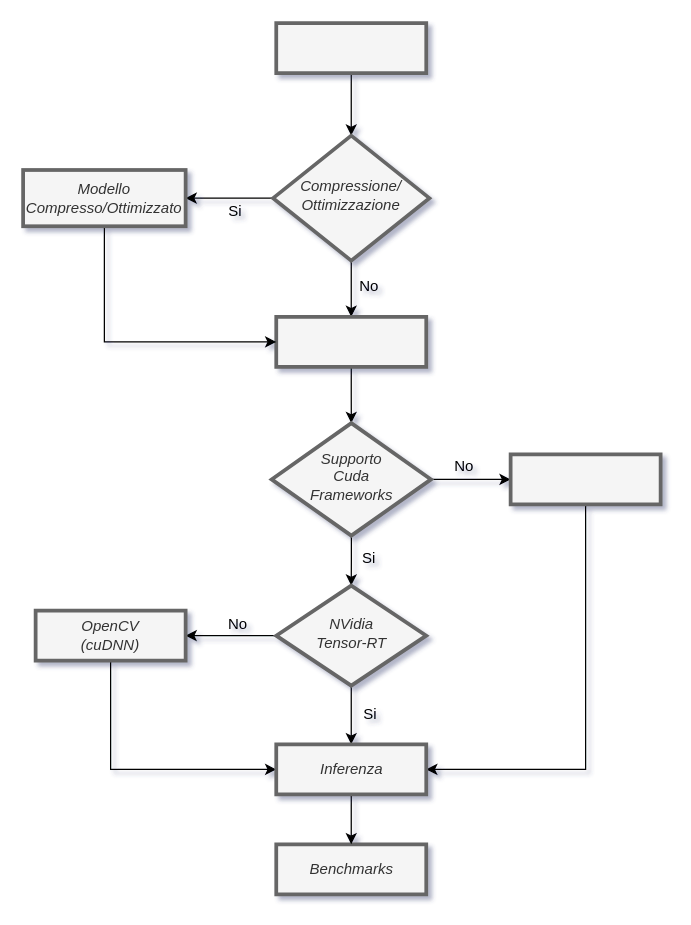
Some shapes in this 691 by 925 pixel diagram are drawn without their labels. Each missing label, with the centre of its shape:
"Conversione .pth a .ONNX" belongs at point 351,341.
"Modello Iniziale" belongs at point 351,47.
"OpenCV (CPU)" belongs at point 585,479.
